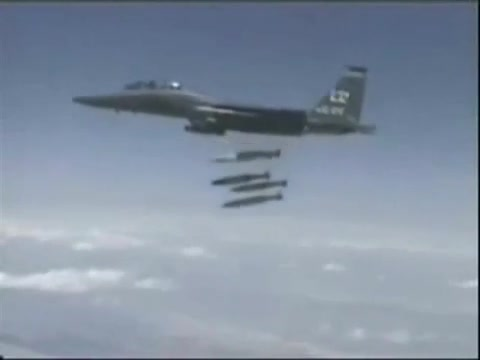aeroplane: (74, 64, 379, 137)
